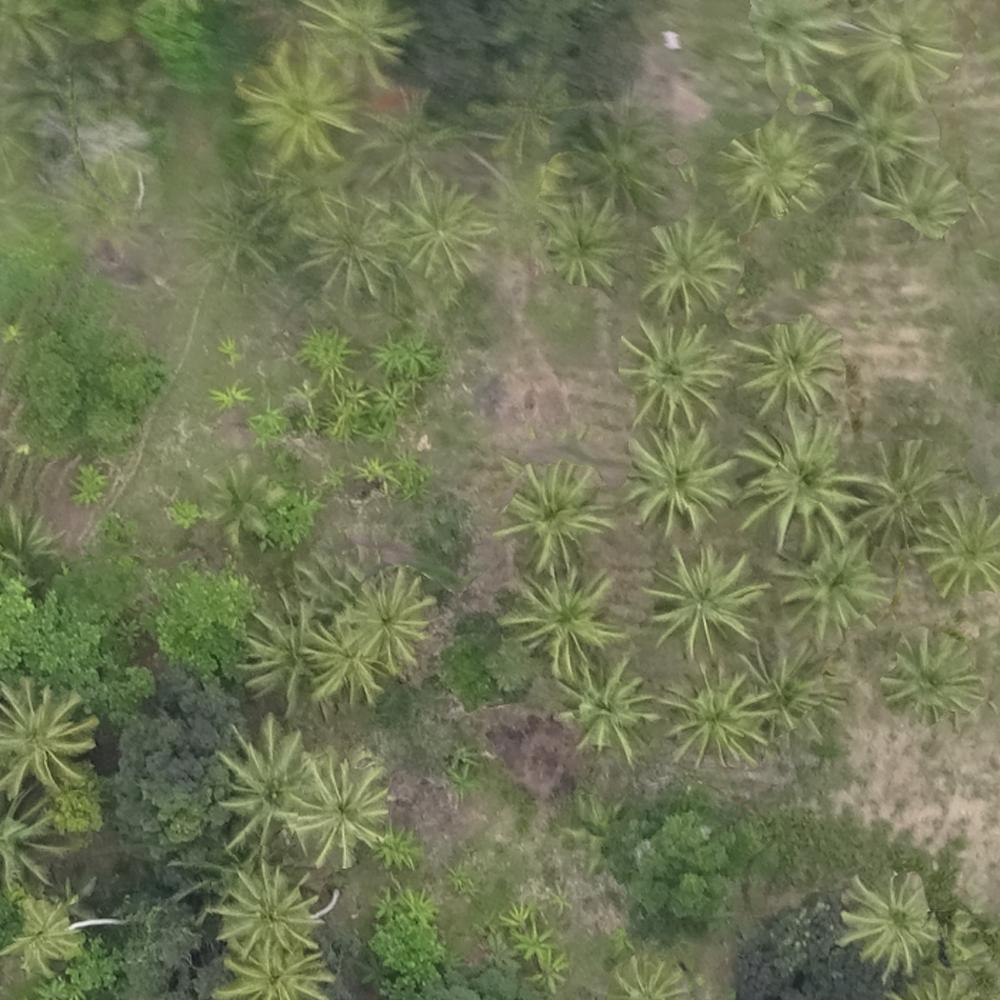Palm: (738, 416, 865, 546), (236, 43, 355, 158), (620, 424, 735, 535), (615, 319, 730, 426), (214, 717, 304, 850), (731, 317, 846, 415), (651, 545, 757, 651), (501, 461, 609, 565), (660, 663, 768, 767), (774, 536, 888, 633), (297, 184, 397, 294), (825, 86, 932, 188), (1, 685, 99, 796), (512, 568, 621, 666), (291, 756, 385, 865), (743, 636, 840, 741), (214, 864, 320, 959), (843, 868, 943, 967), (716, 122, 819, 217), (852, 4, 962, 91), (559, 658, 654, 758), (242, 597, 328, 707), (855, 439, 949, 539), (641, 219, 740, 313), (884, 630, 982, 722), (394, 180, 487, 276), (538, 190, 626, 290), (341, 573, 434, 664), (301, 611, 385, 705), (918, 497, 1000, 593), (212, 944, 333, 1000), (4, 896, 90, 974)
